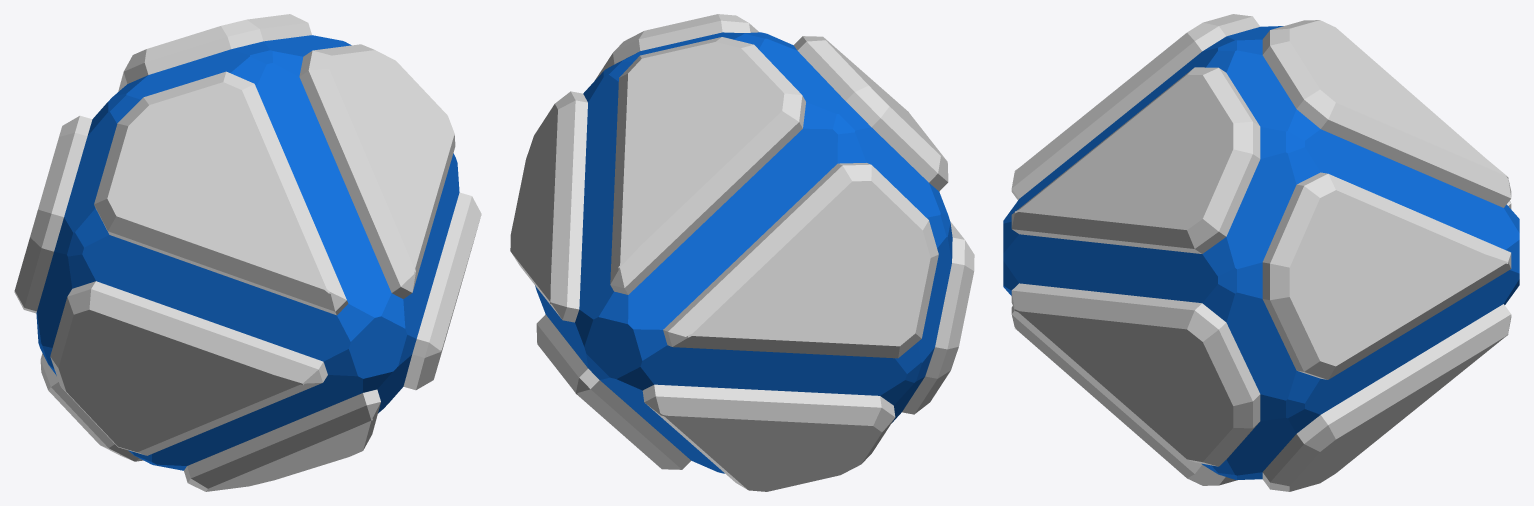
The model's file is PartyDice_d10.glb.
3 views of the same model, side by side, from view 1: azimuth 30°, elevation 25°; view 2: azimuth 150°, elevation 25°; view 3: azimuth 270°, elevation 25° (orthographic).
Parts seen in each view (by area): view 1: Cone.001; view 2: Cone.001; view 3: Cone.001.
Part boxes in pixels (bbox=[...]): Cone.001: bbox=[14, 14, 481, 491]; Cone.001: bbox=[510, 14, 974, 491]; Cone.001: bbox=[1003, 14, 1519, 491].
Size of the model in its own units: 149 by 154 by 165.
